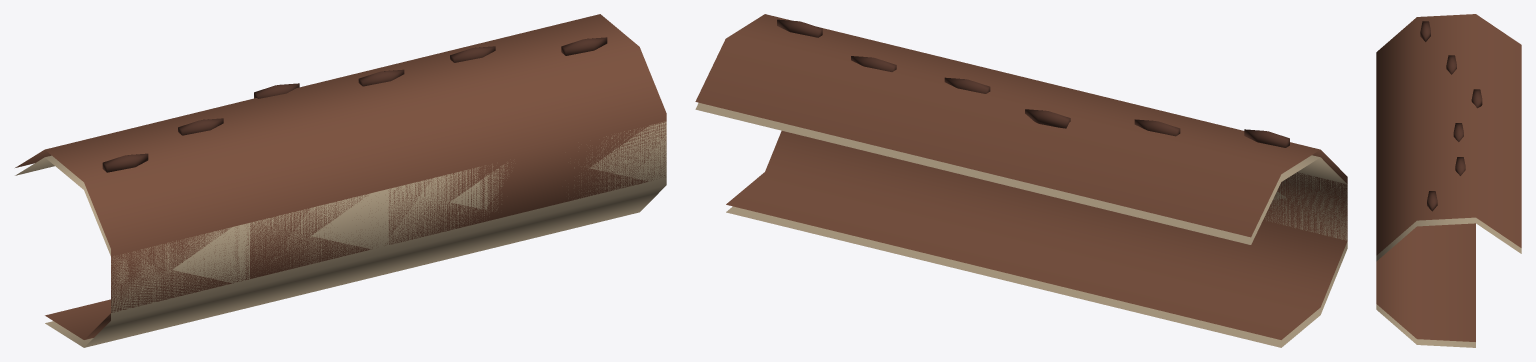
The model's file is ing_willow_bark.gltf.
3 renders of one model, left to right at view 1: azimuth 30°, elevation 25°; view 2: azimuth 150°, elevation 25°; view 3: azimuth 270°, elevation 25°, orthographic. The views are drawn at different scales.
Visible parts, largest first — view 1: ing_willow_bark; view 2: ing_willow_bark; view 3: ing_willow_bark.
Boxes of the visible parts, left/top/right/bottom form: ing_willow_bark: left=15, top=14, right=666, bottom=347; ing_willow_bark: left=695, top=14, right=1347, bottom=347; ing_willow_bark: left=1376, top=14, right=1521, bottom=347.
Size of what is drawn, in the model's own units: 0.3 by 0.0933 by 0.0903.
